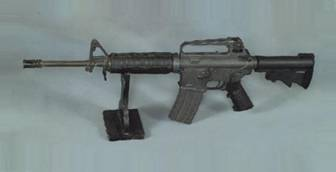rifle: (17, 24, 316, 155)
